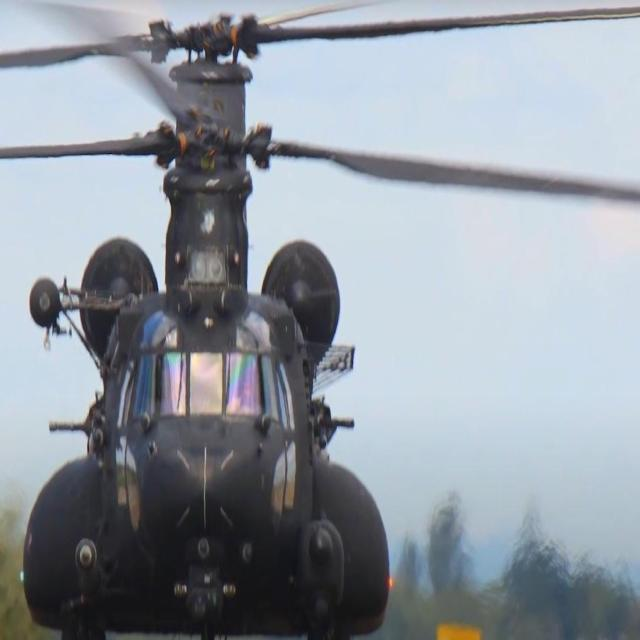Helicopter: (11, 9, 425, 640)
